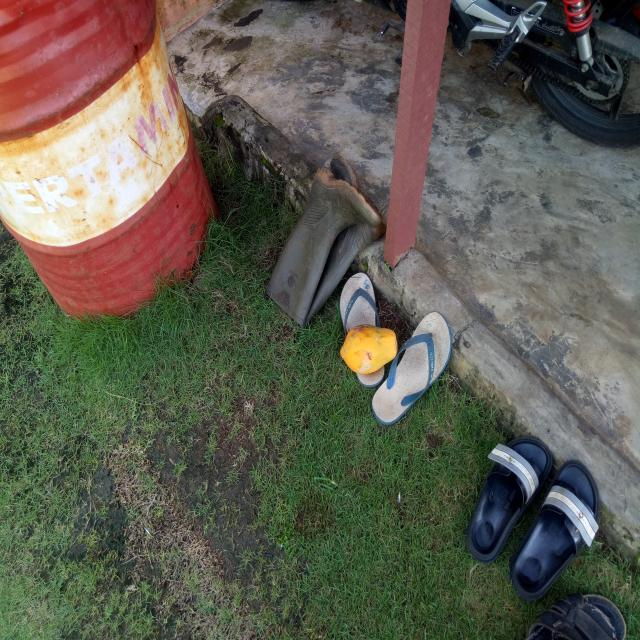Pepaya rippen: (336, 325, 406, 385)
